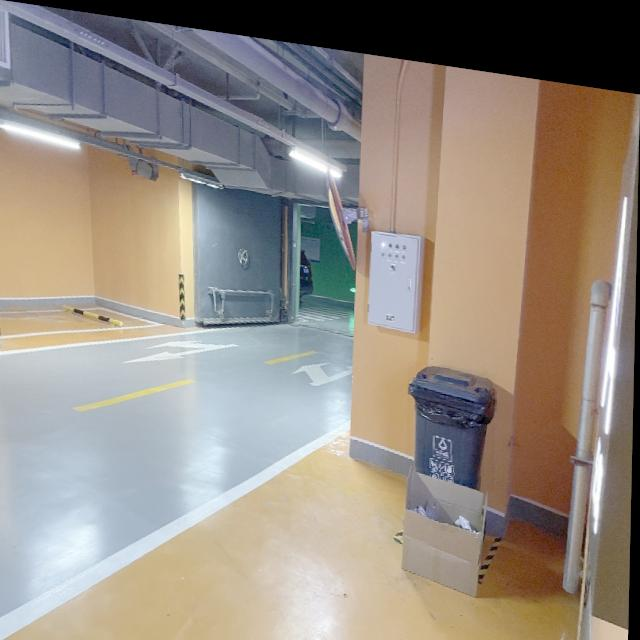garbage: (403, 452, 489, 584)
garbage_bin: (408, 348, 498, 477)
